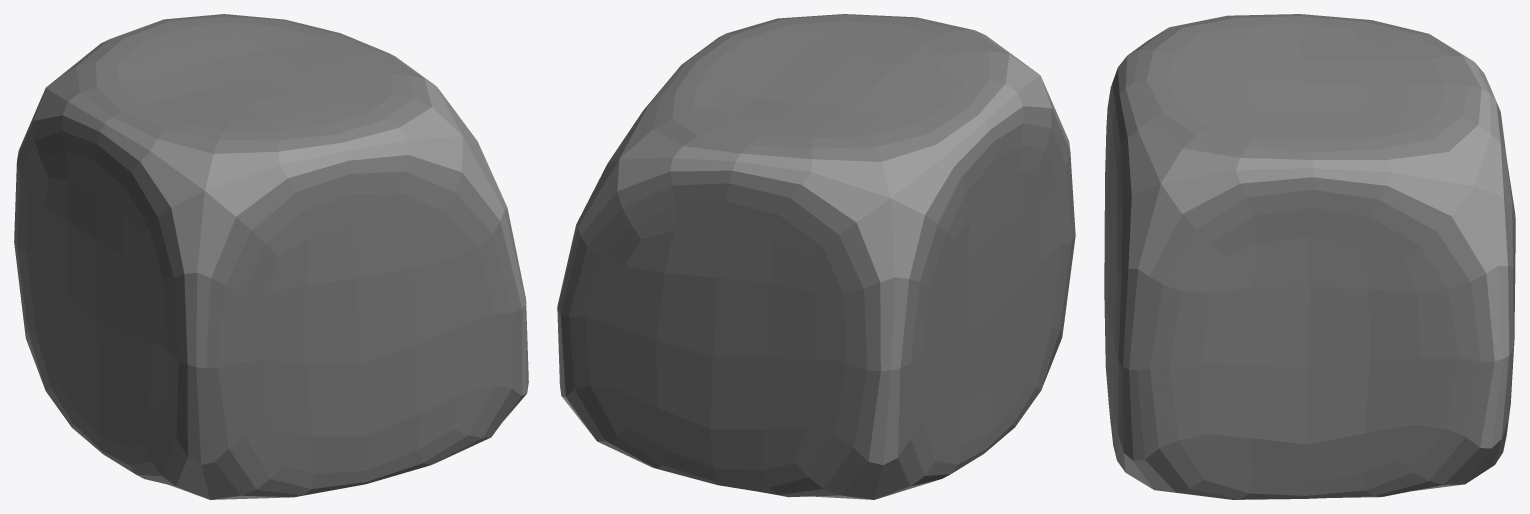
Rendered from Stone.fbx.
3 views of the same model, side by side, from view 1: azimuth 30°, elevation 25°; view 2: azimuth 150°, elevation 25°; view 3: azimuth 270°, elevation 25° (orthographic). The views are drawn at different scales.
Visible parts, largest first — view 1: Stone; view 2: Stone; view 3: Stone.
Part boxes in pixels (x1,y1,x2,y2): Stone: (14,14,528,499); Stone: (557,14,1075,499); Stone: (1104,14,1515,499).
Size of the model in its own units: 1.78 by 1.64 by 1.79.
